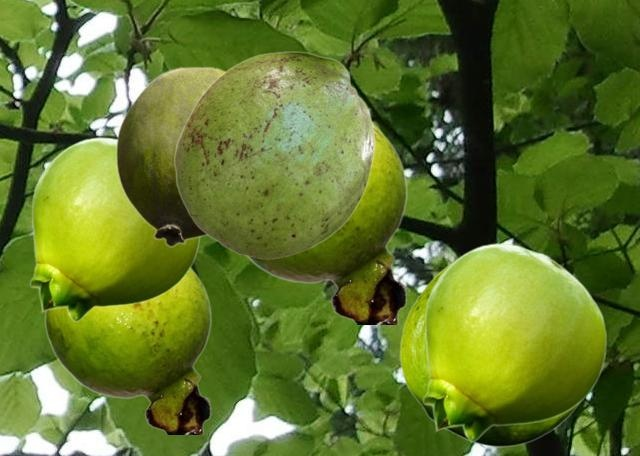guava: (173, 51, 374, 258), (422, 243, 606, 441), (399, 249, 583, 446), (245, 121, 407, 323), (29, 137, 200, 321), (44, 268, 211, 433), (115, 66, 224, 246)
